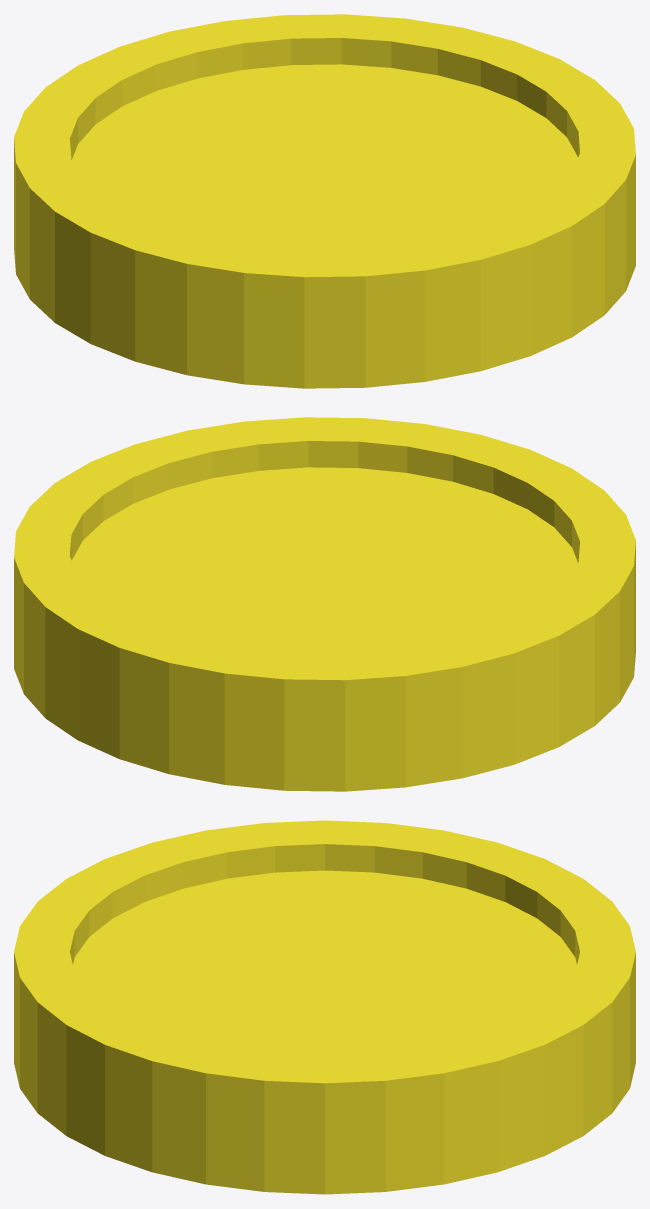
The model's file is coin.glb.
3 renders of one model, top to bottom at view 1: azimuth 30°, elevation 25°; view 2: azimuth 150°, elevation 25°; view 3: azimuth 270°, elevation 25°, orthographic.
Visible parts, largest first — view 1: Coin; view 2: Coin; view 3: Coin.
Boxes of the visible parts, x1,y1,x2,y2 form: Coin: (14, 14, 635, 388); Coin: (14, 417, 635, 791); Coin: (14, 820, 635, 1194).
Size of the model in its own units: 1.15 by 0.2272 by 1.15.
